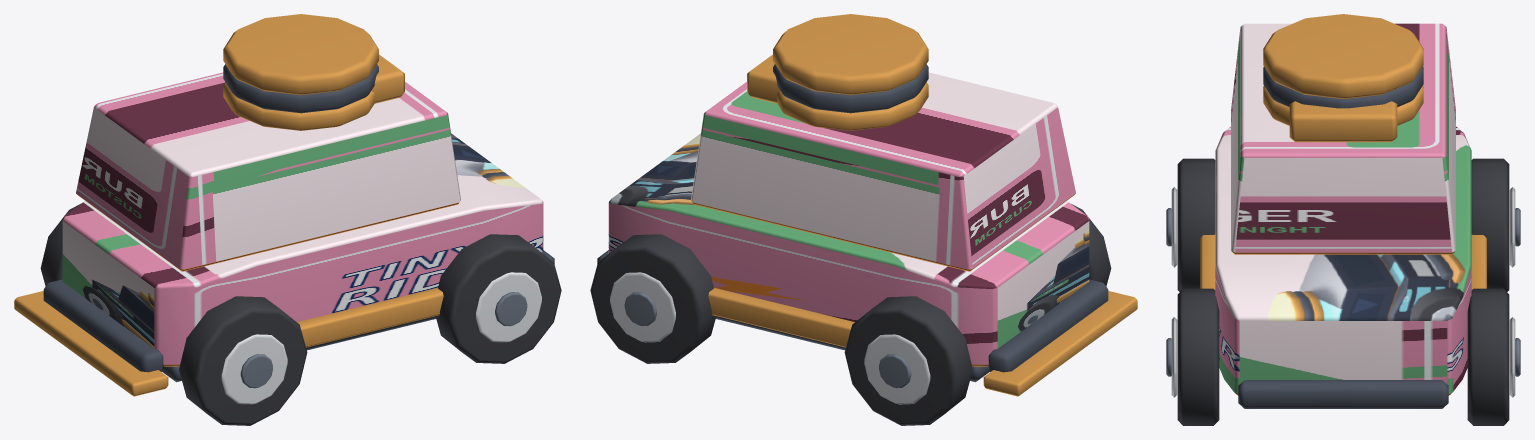
The picture shows the model from 3 angles, left to right: view 1: azimuth 30°, elevation 25°; view 2: azimuth 150°, elevation 25°; view 3: azimuth 270°, elevation 25°; orthographic projection. The views are drawn at different scales.
Parts seen in each view (by area): view 1: SS-03_cabin, SS-03_connected_shell, burger layer.002, Tire, Tire.002, custom chin, custom side guard, front bumper, burger layer.001, Rim, Rim.002, burger layer (+5 smaller); view 2: SS-03_cabin, SS-03_connected_shell, burger layer.002, Tire.001, Tire.003, custom chin, custom side guard.001, front bumper, burger layer.001, Rim.001, Rim.003, burger layer (+5 smaller); view 3: SS-03_connected_shell, SS-03_cabin, burger layer.002, rear bumper, Tire.002, Tire.003, Tire, Tire.001, custom equipment, burger layer.001, burger layer, custom side guard (+5 smaller).
Part boxes in pixels (x1,y1,x2,y2): SS-03_cabin: [76, 72, 460, 271]; SS-03_connected_shell: [62, 133, 543, 366]; burger layer.002: [223, 14, 378, 95]; Tire: [179, 296, 307, 425]; Tire.002: [435, 234, 561, 363]; custom chin: [14, 291, 168, 396]; custom side guard: [297, 288, 443, 347]; front bumper: [43, 279, 163, 372]; burger layer.001: [223, 64, 378, 113]; Rim: [221, 334, 287, 404]; Rim.002: [476, 272, 541, 342]; burger layer: [223, 82, 374, 130]; SS-03_cabin: [691, 72, 1075, 271]; SS-03_connected_shell: [608, 133, 1089, 366]; burger layer.002: [773, 14, 928, 95]; Tire.001: [844, 296, 972, 425]; Tire.003: [590, 234, 716, 363]; custom chin: [983, 291, 1137, 396]; custom side guard.001: [708, 288, 854, 347]; front bumper: [988, 279, 1108, 372]; burger layer.001: [773, 64, 928, 113]; Rim.001: [864, 334, 930, 404]; Rim.003: [610, 272, 675, 342]; burger layer: [777, 82, 928, 130]; SS-03_connected_shell: [1215, 126, 1471, 395]; SS-03_cabin: [1231, 23, 1455, 254]; burger layer.002: [1263, 14, 1423, 98]; rear bumper: [1238, 380, 1448, 408]; Tire.002: [1177, 288, 1219, 425]; Tire.003: [1467, 288, 1509, 425]; Tire: [1177, 158, 1215, 291]; Tire.001: [1471, 158, 1509, 291]; custom equipment: [1289, 101, 1397, 142]; burger layer.001: [1263, 67, 1423, 108]; burger layer: [1263, 85, 1423, 125]; custom side guard: [1200, 234, 1215, 289].
Bounding box in the file's own units: 328 × 213 × 221.
